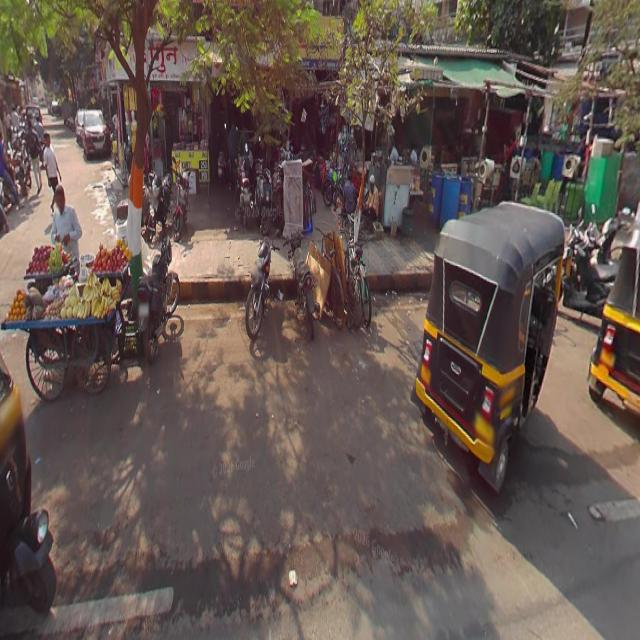illegalparking: (147, 154, 311, 259)
